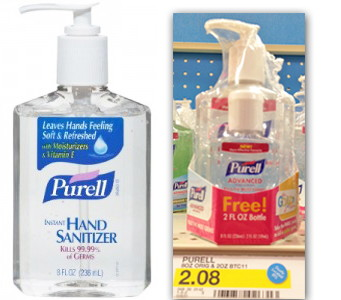Sanitizer: (8, 1, 154, 299), (190, 15, 301, 246), (208, 87, 283, 247)
